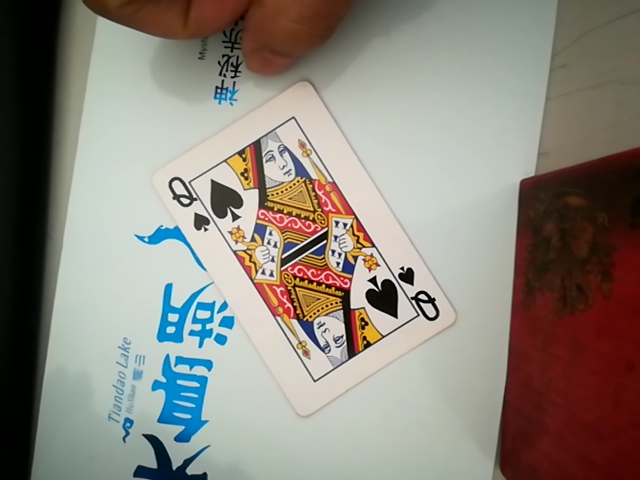ht q: (144, 65, 464, 423)
